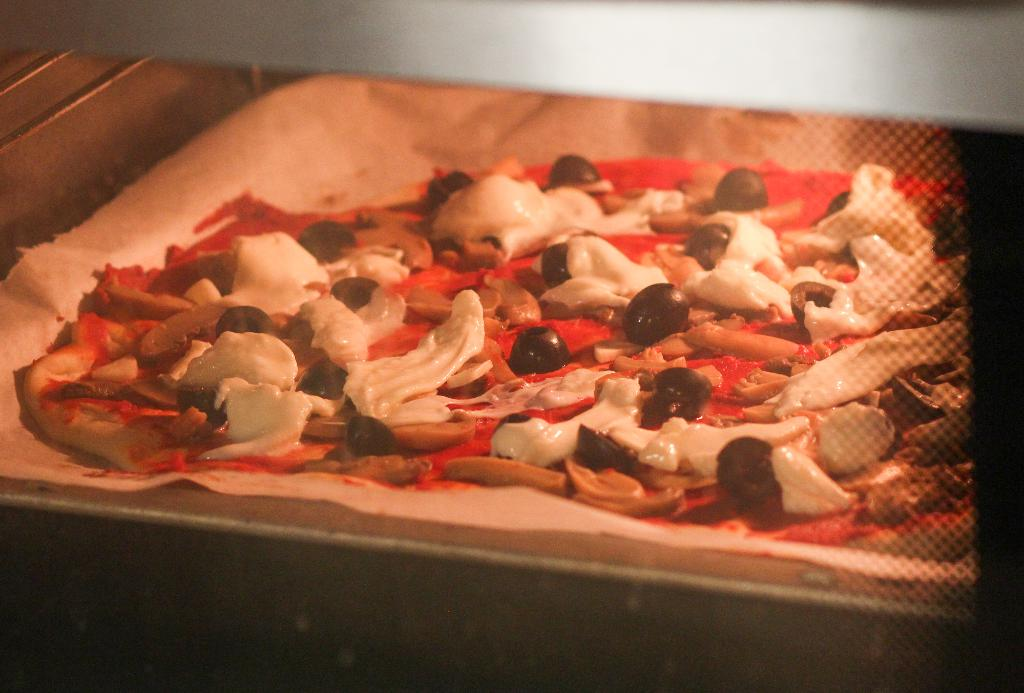Pizza: (0, 99, 963, 586)
